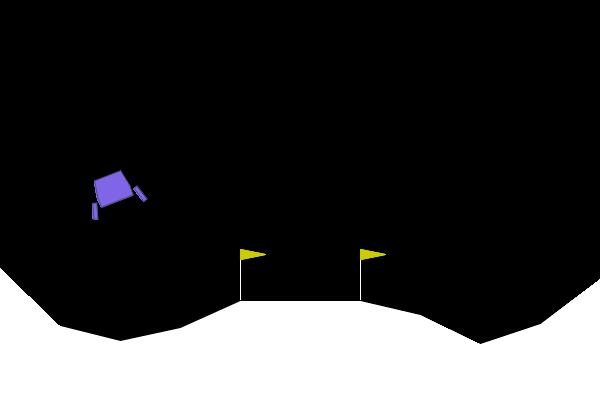lander: (78, 163, 149, 222)
